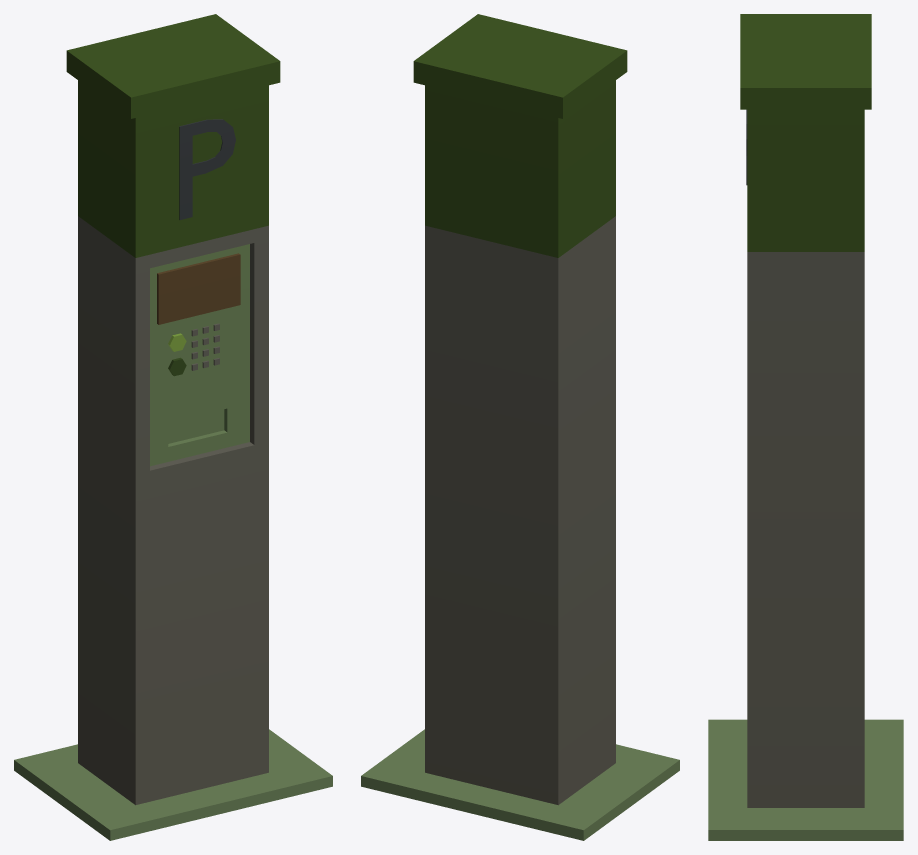
The model's file is Parking_02.fbx.
The picture shows the model from 3 angles, left to right: view 1: azimuth 30°, elevation 25°; view 2: azimuth 150°, elevation 25°; view 3: azimuth 270°, elevation 25°; orthographic projection.
Visible parts, largest first — view 1: Parking_02; view 2: Parking_02; view 3: Parking_02.
Part boxes in pixels (x1=…): Parking_02: x1=14, y1=14, x2=332, y2=840; Parking_02: x1=361, y1=14, x2=679, y2=840; Parking_02: x1=708, y1=14, x2=903, y2=840.
Size of the model in its own units: 0.6455 by 2 by 0.4825.
